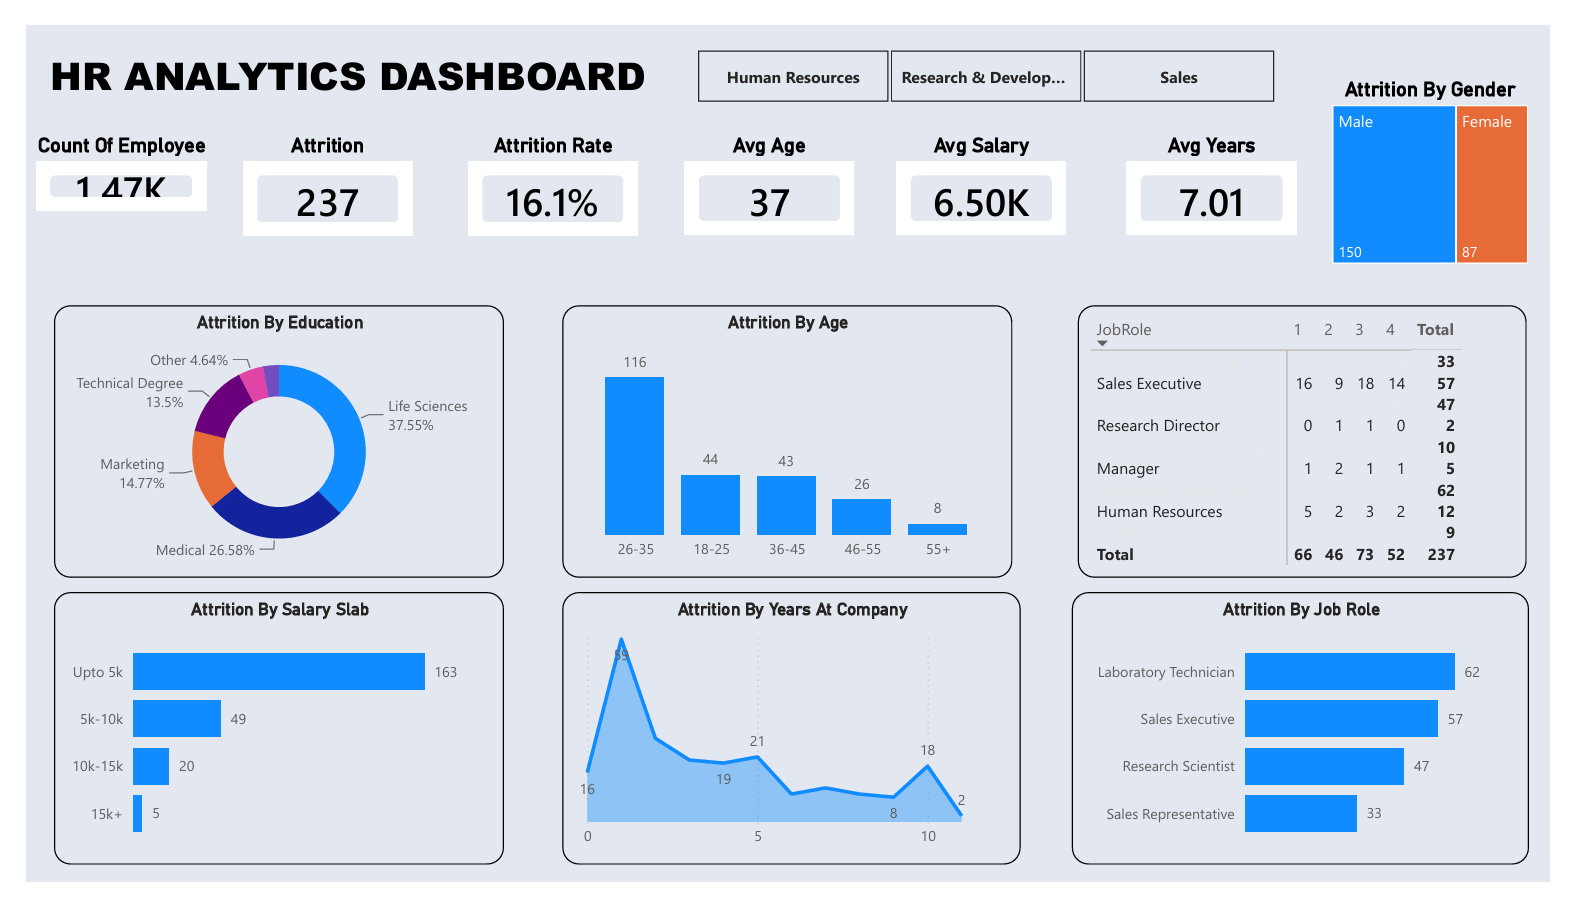

Layout of this report page (visuals, bound fields, positions):
{"tool":"powerbi","page":{"name":"Page 1","canvas":[1280,720],"ordinal":0},"visuals":[{"type":"cardVisual","title":"Count Of Employee","fields":{"Data":["CountNonNull(HR_Analytics.EmpID)"]},"box":[3.5,89.5,153.5,94.2],"z":0},{"type":"cardVisual","title":"Avg Age","fields":{"Data":["Avg(HR_Analytics.Age)"]},"box":[547.7,89.5,152.3,93],"z":1000},{"type":"cardVisual","title":"Attrition","fields":{"Data":["Sum(HR_Analytics.AttritionCount)"]},"box":[176.7,89.5,152.3,94.2],"z":2000},{"type":"cardVisual","title":"Attrition Rate","fields":{"Data":["HR_Analytics.AttritionRate"]},"box":[366.3,89.5,152.3,94.2],"z":3000},{"type":"cardVisual","title":"Avg Years","fields":{"Data":["Avg(HR_Analytics.YearsAtCompany)"]},"box":[918.6,89.5,153.5,93],"z":4000},{"type":"cardVisual","title":"Avg Salary","fields":{"Data":["Avg(HR_Analytics.MonthlyIncome)"]},"box":[725.6,89.5,152.3,93],"z":5000},{"type":"donutChart","title":" Attrition By Education","fields":{"Category":["HR_Analytics.EducationField"],"Y":["Sum(HR_Analytics.AttritionCount)"]},"box":[23.3,234.9,377.9,229.1],"z":6000},{"type":"columnChart","title":" Attrition By Age","fields":{"Y":["Sum(HR_Analytics.AttritionCount)"],"Category":["HR_Analytics.AgeGroup"]},"box":[450,234.9,377.9,229.1],"z":7000},{"type":"pivotTable","fields":{"Rows":["HR_Analytics.JobRole"],"Columns":["HR_Analytics.JobSatisfaction"],"Values":["Sum(HR_Analytics.AttritionCount)"]},"box":[882.6,234.9,377.9,229.1],"z":8000},{"type":"barChart","title":" Attrition By Salary Slab","fields":{"Category":["HR_Analytics.SalarySlab"],"Y":["Sum(HR_Analytics.AttritionCount)"]},"box":[23.3,475.6,377.9,229.1],"z":8001},{"type":"barChart","title":" Attrition By Job Role","fields":{"Category":["HR_Analytics.JobRole"],"Y":["Sum(HR_Analytics.AttritionCount)"]},"box":[877.9,475.6,383.7,229.1],"z":8002},{"type":"areaChart","title":" Attrition By Years At Company","fields":{"Category":["HR_Analytics.YearsAtCompany"],"Y":["Sum(HR_Analytics.AttritionCount)"]},"box":[450,475.6,384.9,229.1],"z":8003},{"type":"treemap","title":" Attrition By Gender","fields":{"Group":["HR_Analytics.Gender"],"Values":["Sum(HR_Analytics.AttritionCount)"]},"box":[1091.9,43,174.4,161.6],"z":8004},{"type":"slicer","fields":{"Values":["HR_Analytics.Department"]},"box":[538.4,14,533.7,57],"z":8005},{"type":"textbox","box":[15.1,14,555.8,57],"z":8006}]}

Visuals, with their boxes in screenshot pixels (x1, y1, x2, y2), scaled from the page's 1280x720 canvas onto the 1576x907 screenshot:
"Count Of Employee" cardVisual: box=[4, 113, 193, 231]
"Avg Age" cardVisual: box=[674, 113, 862, 230]
"Attrition" cardVisual: box=[218, 113, 405, 231]
"Attrition Rate" cardVisual: box=[451, 113, 639, 231]
"Avg Years" cardVisual: box=[1131, 113, 1320, 230]
"Avg Salary" cardVisual: box=[893, 113, 1081, 230]
" Attrition By Education" donutChart: box=[29, 296, 494, 585]
" Attrition By Age" columnChart: box=[554, 296, 1019, 585]
pivotTable - HR_Analytics.JobRole x HR_Analytics.JobSatisfaction: box=[1087, 296, 1552, 585]
" Attrition By Salary Slab" barChart: box=[29, 599, 494, 888]
" Attrition By Job Role" barChart: box=[1081, 599, 1553, 888]
" Attrition By Years At Company" areaChart: box=[554, 599, 1028, 888]
" Attrition By Gender" treemap: box=[1344, 54, 1559, 258]
slicer - HR_Analytics.Department: box=[663, 18, 1320, 89]
textbox: box=[19, 18, 703, 89]
